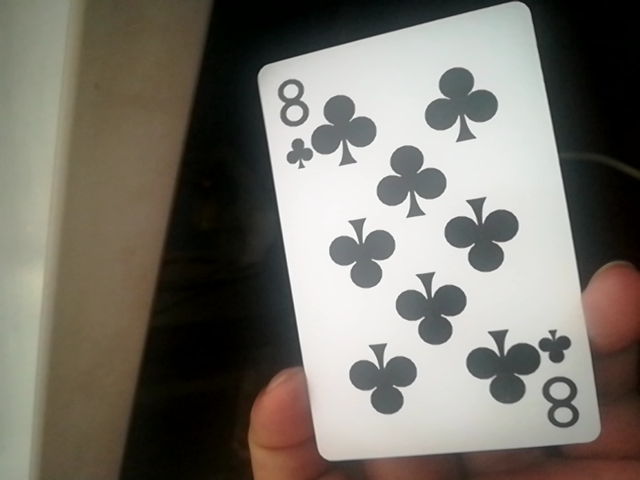mh 8: (255, 4, 608, 463)
